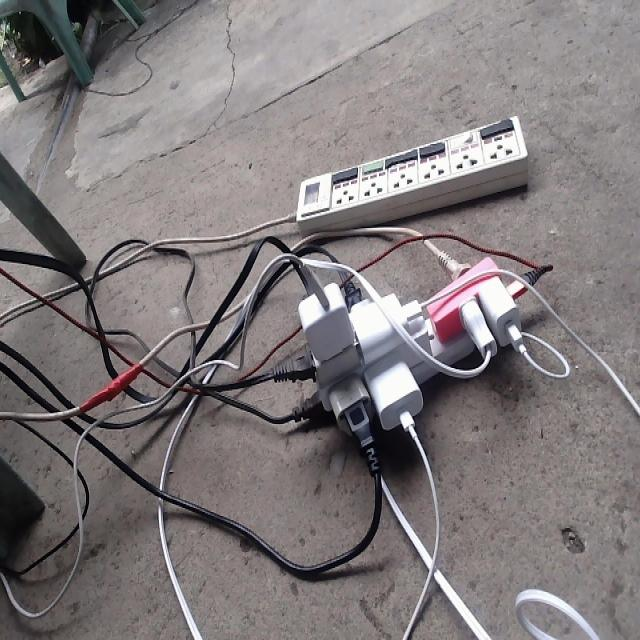-: (260, 256, 544, 464)
